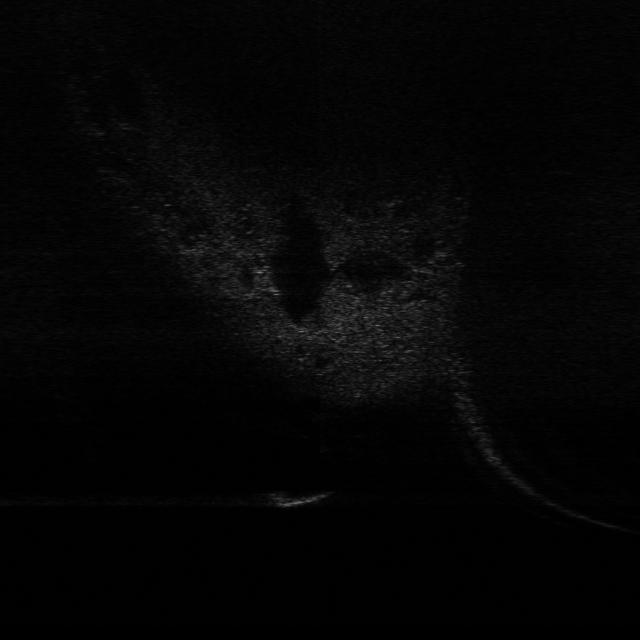cube: (263, 487, 336, 511)
